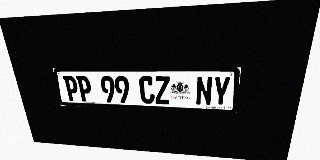9: (114, 76, 131, 103), (100, 76, 116, 103)
C: (139, 76, 155, 104)
N: (195, 76, 213, 106)
P: (76, 76, 93, 102), (63, 76, 80, 101)
Y: (212, 76, 231, 106)
Z: (154, 76, 170, 104)
